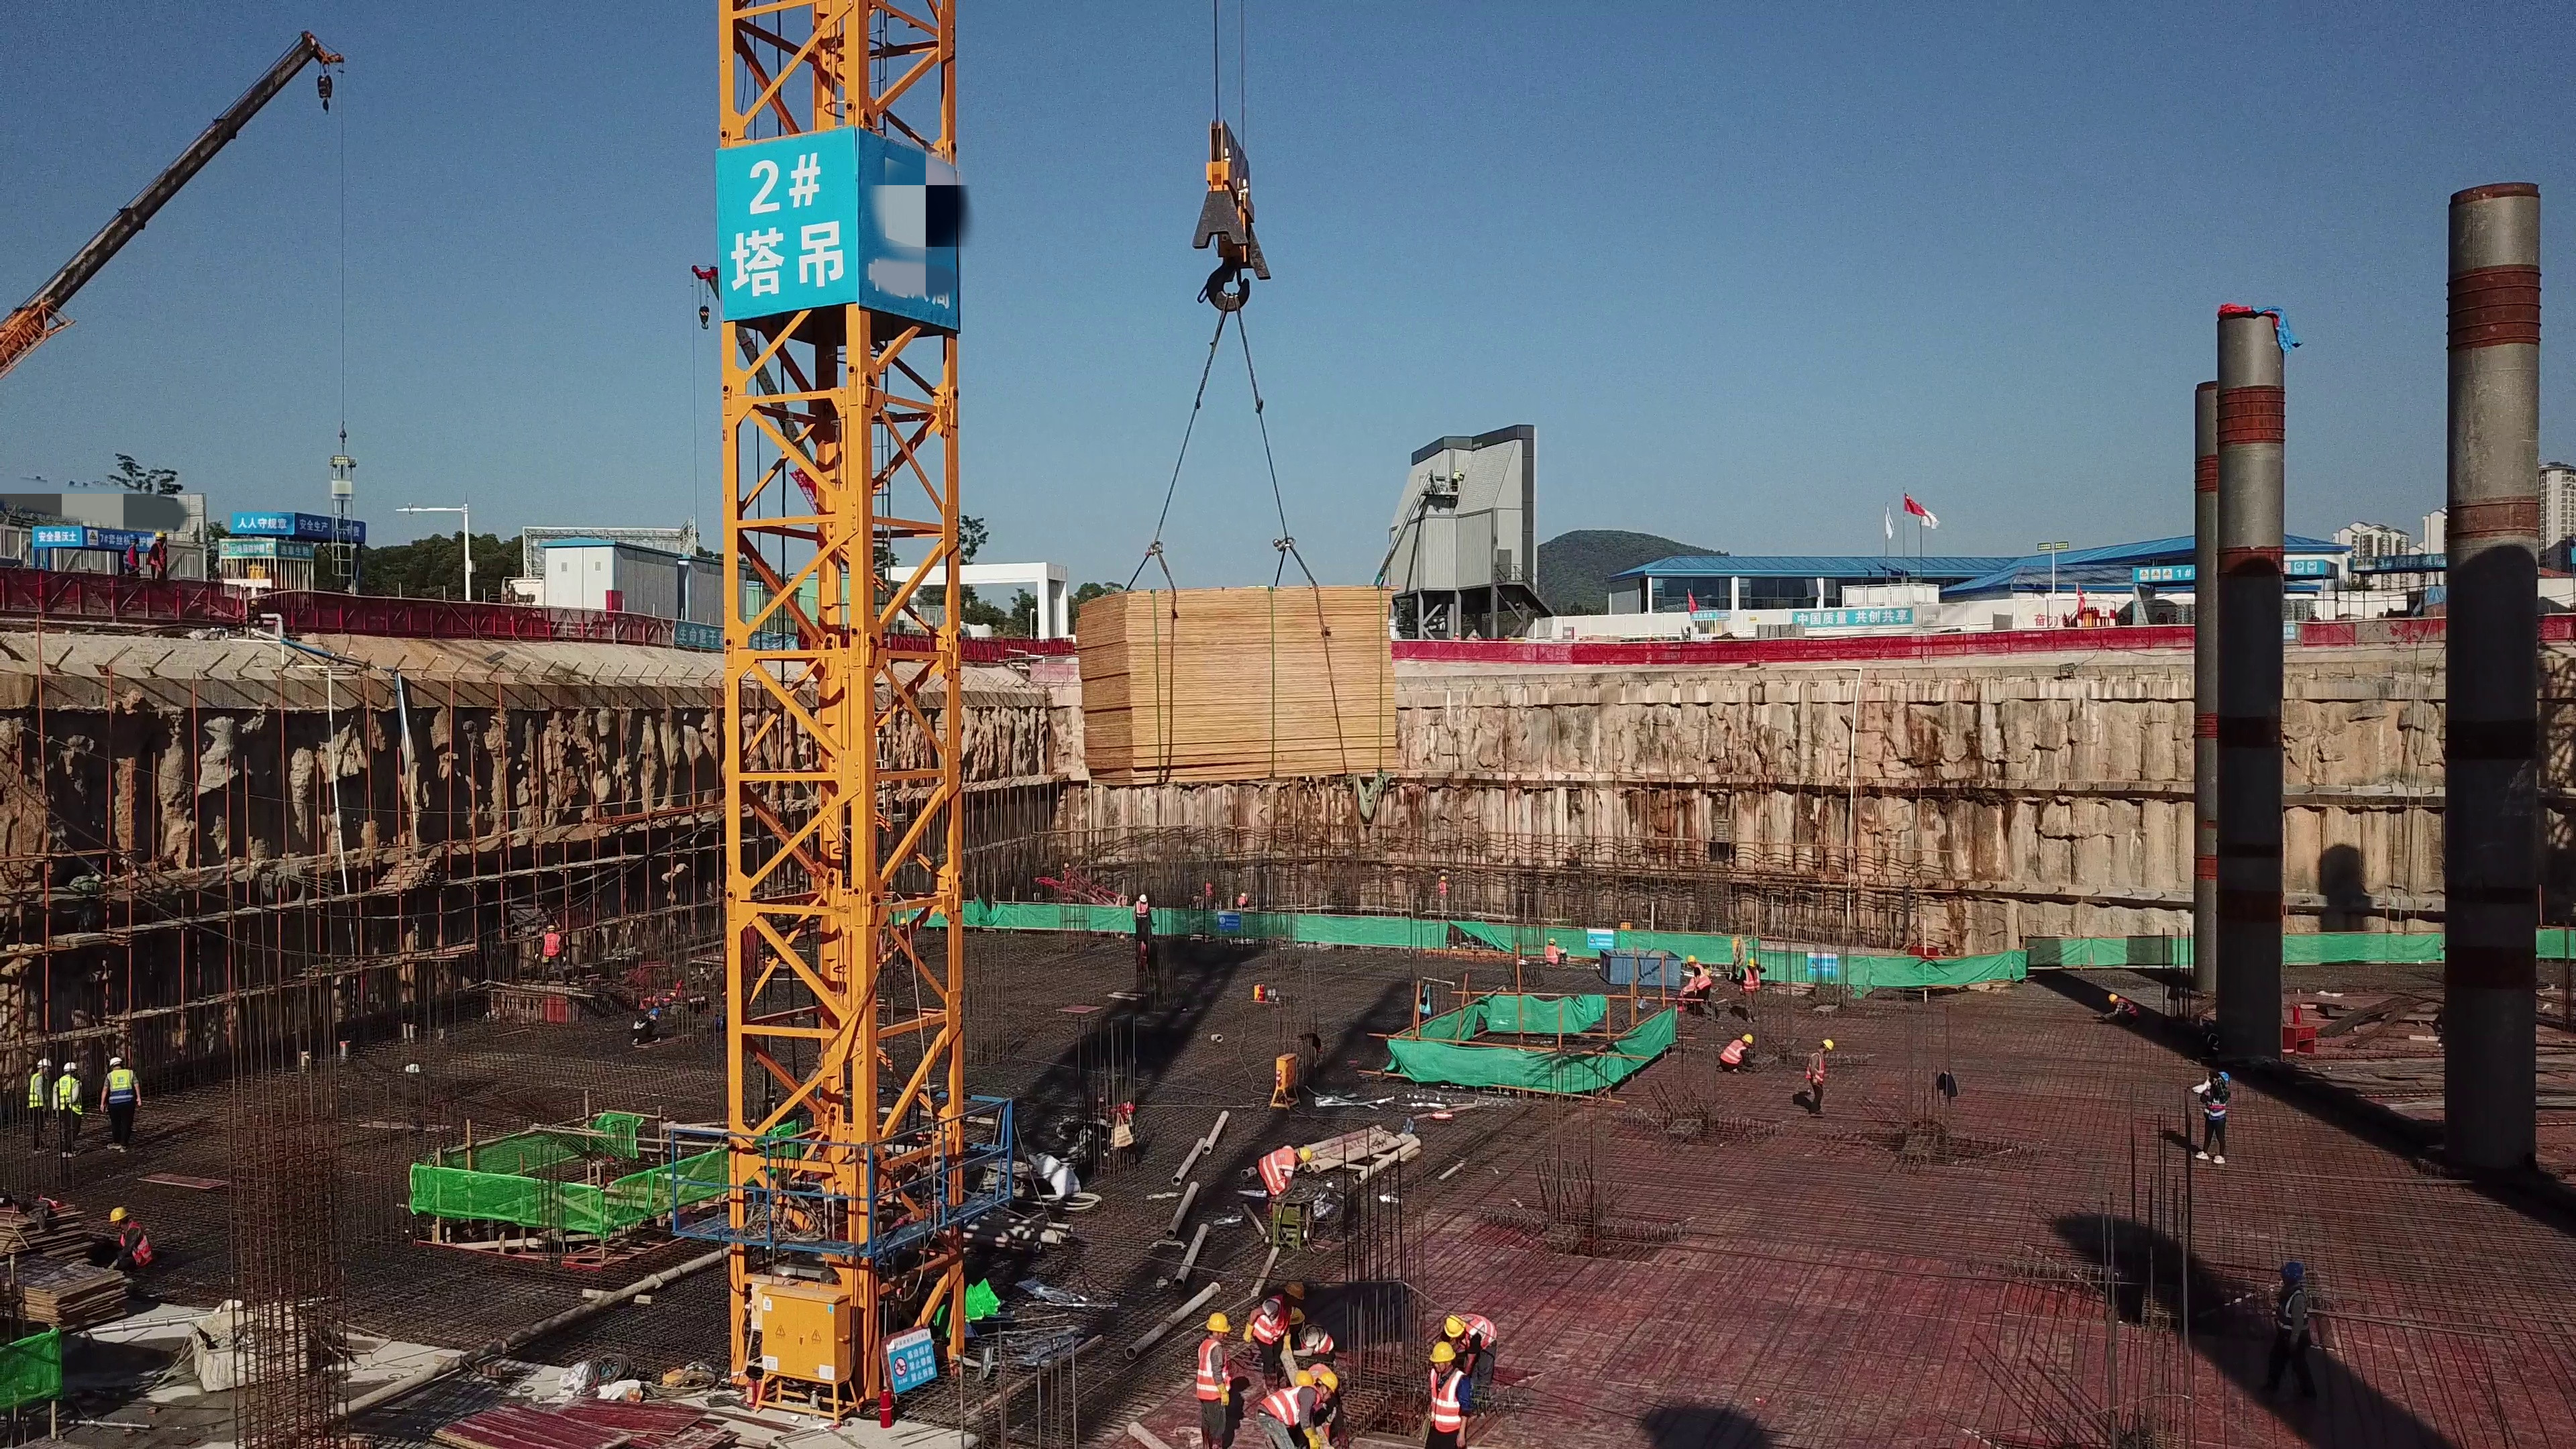board: (1081, 570, 1400, 778), (447, 1375, 780, 1449), (1, 1199, 103, 1336), (1752, 620, 1806, 643)
ebox: (739, 1279, 855, 1402), (1272, 1039, 1330, 1119)
fence: (324, 588, 657, 649), (1868, 633, 2204, 663)
helmet: (1203, 1310, 1232, 1333), (1426, 1342, 1452, 1363), (1281, 1280, 1305, 1299), (1320, 1371, 1339, 1393), (1295, 1146, 1314, 1165), (109, 1205, 130, 1218), (1295, 1368, 1313, 1386), (1291, 1307, 1307, 1325), (1448, 1314, 1466, 1332), (36, 1057, 52, 1068), (108, 1055, 123, 1067), (2218, 1071, 2231, 1085), (1821, 1038, 1835, 1049), (649, 1007, 661, 1018), (128, 531, 141, 539), (1684, 956, 1698, 964), (1743, 1034, 1754, 1044), (2107, 994, 2118, 1004), (154, 529, 167, 537), (62, 1061, 76, 1069), (1138, 895, 1148, 903), (1748, 959, 1758, 966), (1240, 892, 1246, 898), (1548, 938, 1555, 944), (546, 923, 555, 928)
hook: (1185, 127, 1272, 303), (318, 72, 335, 117), (695, 301, 716, 334)
hopper: (1597, 935, 1686, 994)
person: (1254, 1361, 1340, 1449), (1190, 1304, 1238, 1449), (1252, 1141, 1314, 1250), (1439, 1309, 1502, 1411), (1415, 1338, 1470, 1449), (2273, 1260, 2316, 1396), (97, 1050, 143, 1157), (1245, 1279, 1302, 1366), (103, 1205, 158, 1282), (2197, 1069, 2236, 1167), (53, 1057, 89, 1163), (25, 1053, 54, 1155), (533, 919, 574, 992), (1678, 953, 1719, 1018), (1806, 1034, 1837, 1117), (1735, 951, 1767, 1024), (1715, 1030, 1758, 1075), (629, 1004, 667, 1047), (116, 526, 145, 582), (146, 525, 170, 588), (2100, 991, 2142, 1026), (1134, 892, 1157, 953), (1539, 937, 1575, 973), (1433, 871, 1453, 917), (1202, 877, 1214, 910), (1234, 888, 1250, 914), (1188, 895, 1206, 912), (1060, 860, 1073, 879), (1682, 626, 1693, 642), (1449, 630, 1461, 642), (2308, 606, 2321, 620), (1470, 631, 1479, 642)
slogan: (718, 137, 855, 316), (663, 627, 800, 654), (1799, 610, 1909, 624), (236, 512, 292, 538), (301, 517, 364, 539), (34, 526, 85, 544), (219, 543, 273, 559), (2139, 568, 2192, 580), (274, 543, 311, 557), (92, 527, 117, 547), (1693, 611, 1723, 621)
vest: (1428, 1370, 1463, 1436), (1197, 1340, 1231, 1401), (1264, 1385, 1299, 1429), (1256, 1295, 1287, 1342), (1463, 1313, 1498, 1348), (120, 1226, 150, 1265), (1259, 1150, 1293, 1182), (1305, 1323, 1334, 1358), (2205, 1084, 2230, 1120), (27, 1074, 49, 1111), (54, 1076, 78, 1109), (1809, 1053, 1826, 1088), (1719, 1040, 1743, 1064), (109, 1072, 129, 1097), (2118, 998, 2140, 1018), (123, 545, 143, 570), (1695, 967, 1714, 988), (151, 542, 166, 568), (1744, 969, 1761, 995), (543, 931, 559, 955), (1680, 977, 1696, 994), (631, 1016, 649, 1031), (1545, 947, 1558, 967), (1136, 902, 1148, 922), (1205, 884, 1213, 897), (1238, 898, 1246, 907)
